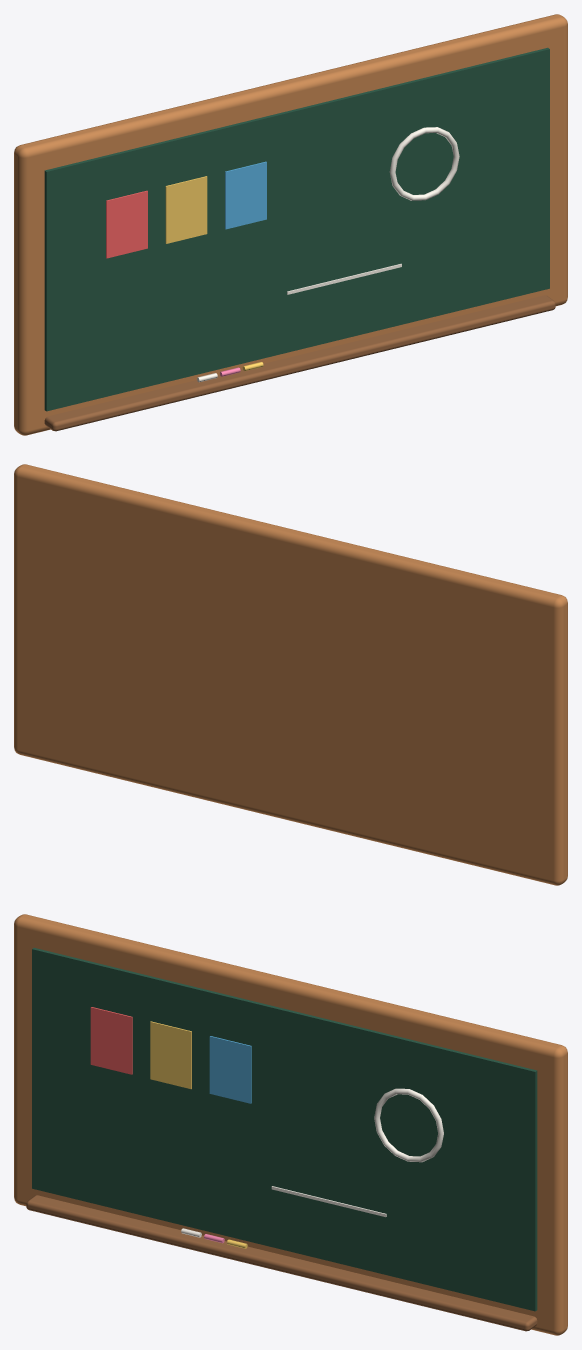
Rendered from kboard.glb.
3 views of the same model, one above another, from view 1: azimuth 30°, elevation 25°; view 2: azimuth 150°, elevation 25°; view 3: azimuth 330°, elevation 25° (orthographic).
Bounding box in the file's own units: 2.4 × 1.2 × 0.15.
